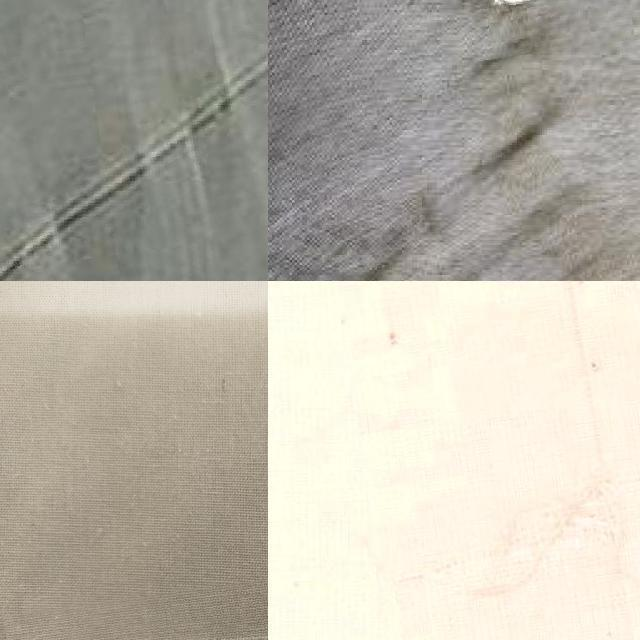Thread_other: (340, 281, 640, 640), (5, 550, 268, 640)
seam: (462, 0, 630, 56)
